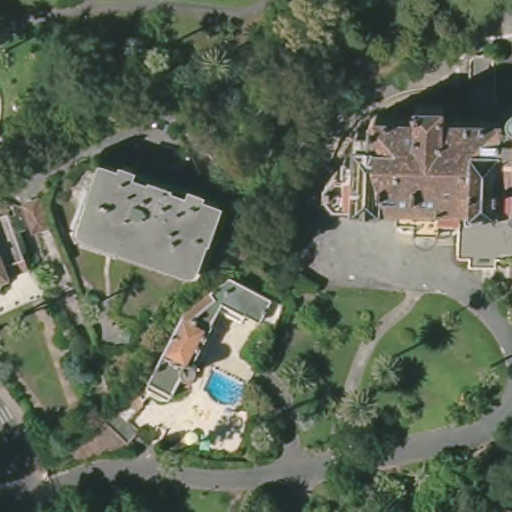pool: (201, 366, 248, 410)
